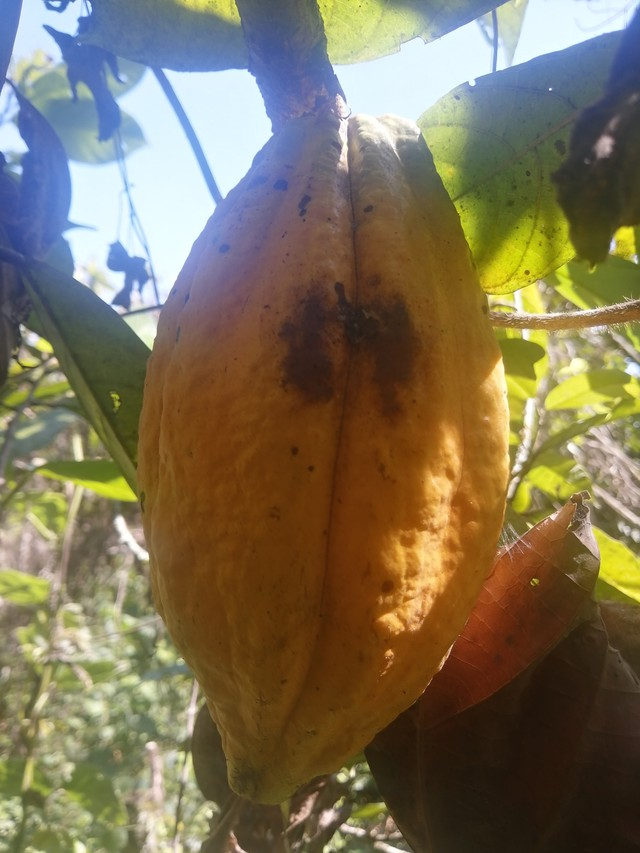phytophthora palmivora: (107, 65, 535, 813)
